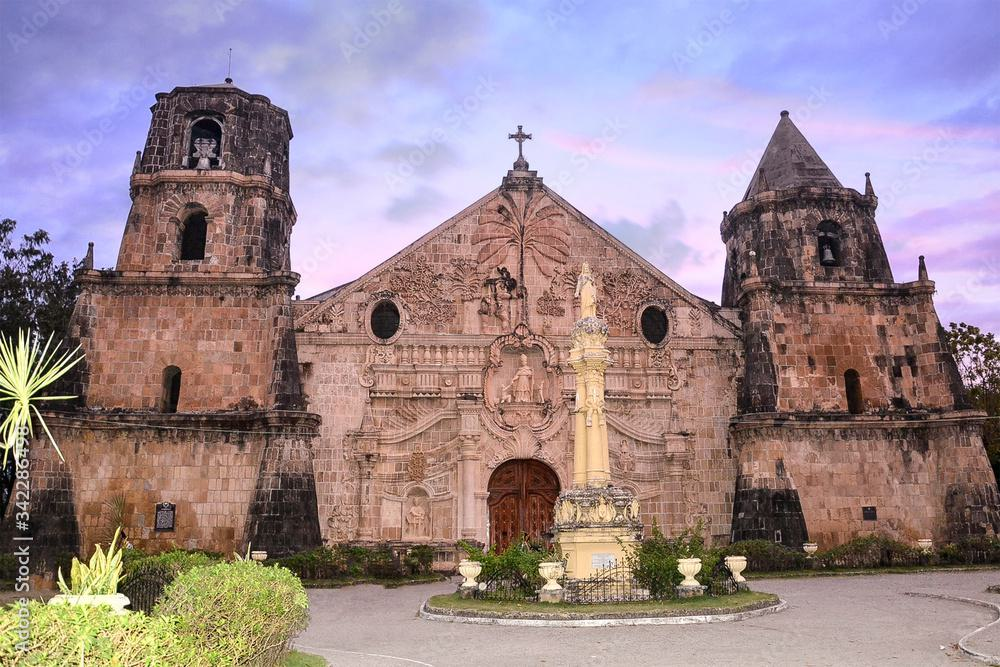Miagao Church: (35, 83, 1000, 566)
